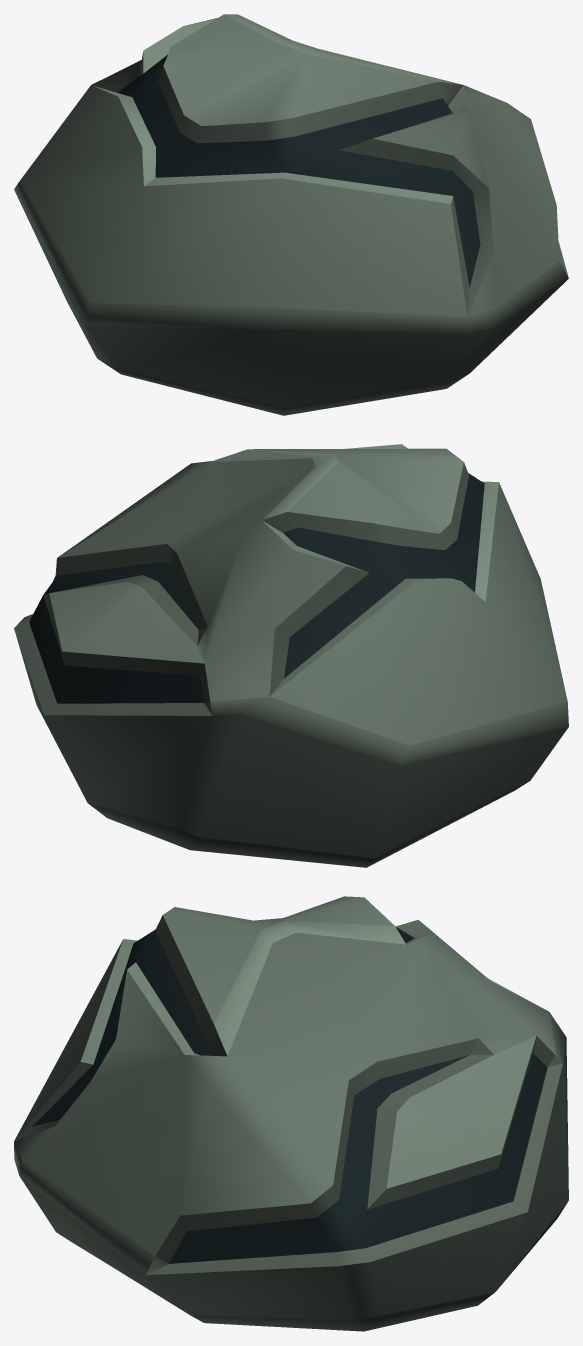
File: ore_veins_coal_S.fbx
3 renders of one model, top to bottom at view 1: azimuth 30°, elevation 25°; view 2: azimuth 150°, elevation 25°; view 3: azimuth 270°, elevation 25°, orthographic. The views are drawn at different scales.
Parts seen in each view (by area): view 1: ore_veins_coal_S; view 2: ore_veins_coal_S; view 3: ore_veins_coal_S.
Part boxes in pixels (box(x1,y1,x2,y2)): ore_veins_coal_S: box(14, 14, 568, 415); ore_veins_coal_S: box(14, 444, 568, 867); ore_veins_coal_S: box(14, 896, 568, 1331).
Bounding box in the file's own units: 116 × 81.93 × 110.
Materials: 1 (1 with a texture image).
